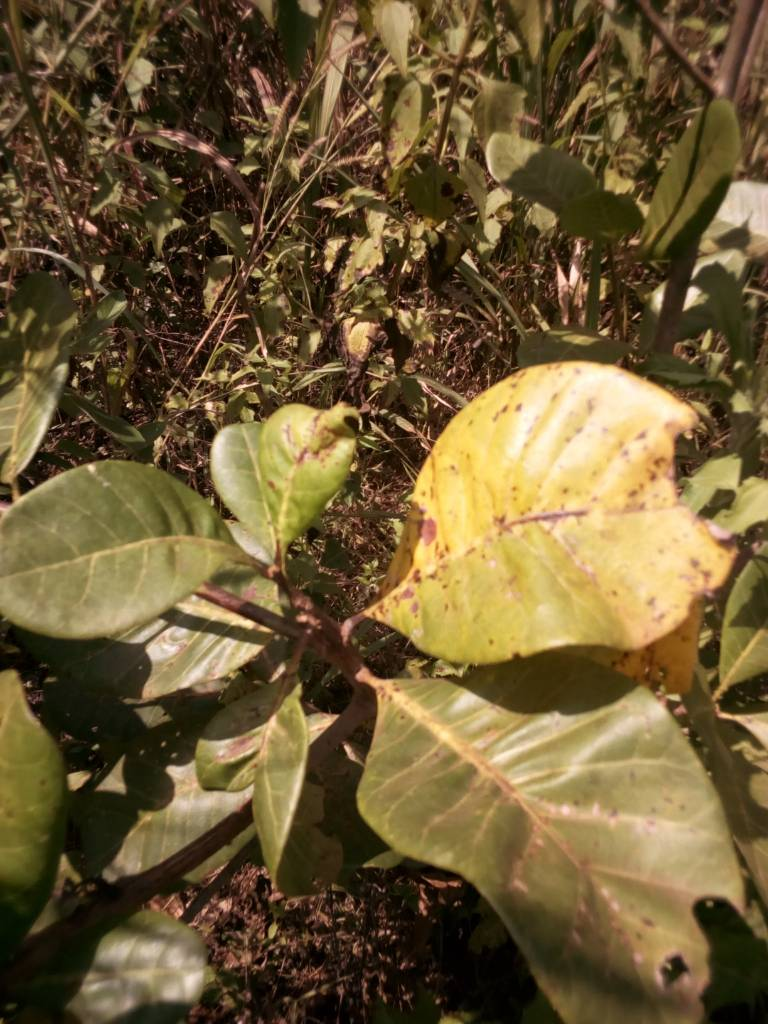Bactériose: (361, 675, 736, 1024), (336, 364, 732, 660), (268, 407, 355, 555)
